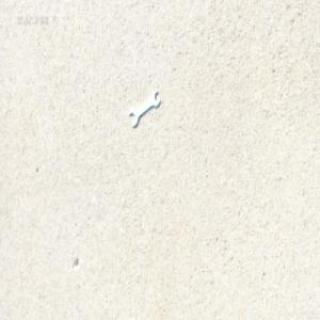Wrenchtrack_idkeyframe: (128, 88, 160, 126)
